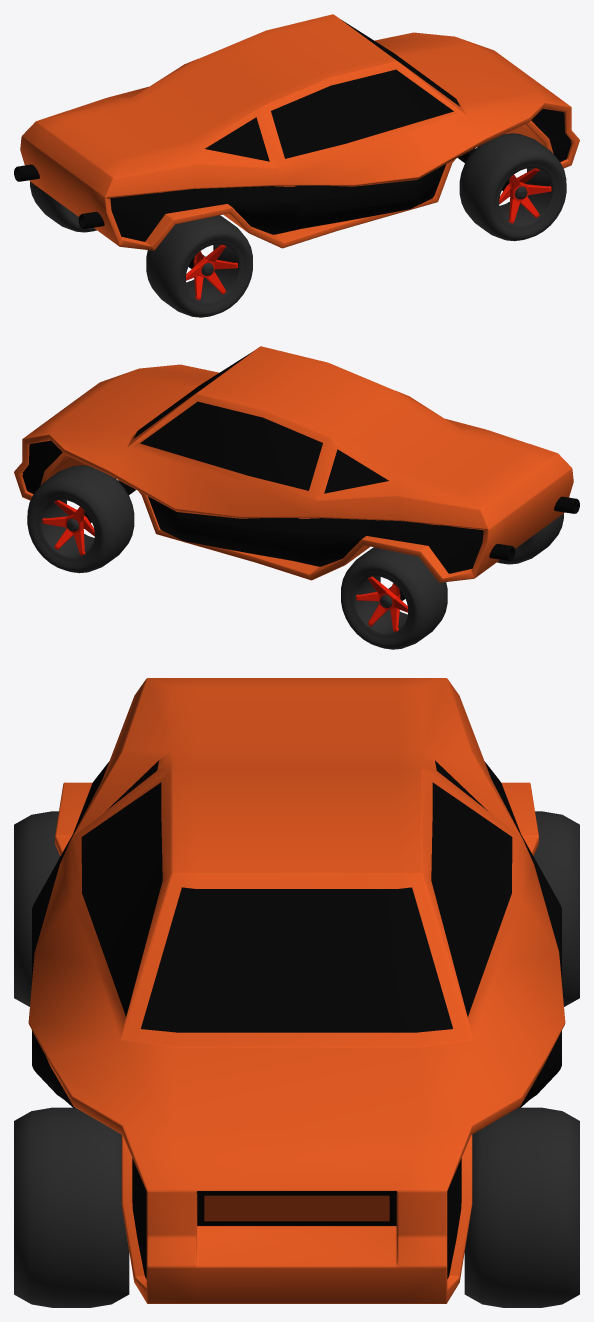
File: Car.fbx
The picture shows the model from 3 angles, top to bottom: view 1: azimuth 30°, elevation 25°; view 2: azimuth 150°, elevation 25°; view 3: azimuth 270°, elevation 25°; orthographic projection. The views are drawn at different scales.
Visible parts, largest first — view 1: car_body, FrontRightWheel, RearRightWheel, RearLeftWheel; view 2: car_body, FrontLeftWheel, RearLeftWheel, RearRightWheel; view 3: car_body, FrontLeftWheel, FrontRightWheel, RearRightWheel, RearLeftWheel.
Boxes of the visible parts, x1,y1,x2,y2 form: car_body: (14,14,579,268); FrontRightWheel: (459,133,566,241); RearRightWheel: (146,215,252,317); RearLeftWheel: (30,181,96,232); car_body: (14,346,579,600); FrontLeftWheel: (27,465,134,573); RearLeftWheel: (341,547,447,649); RearRightWheel: (497,513,563,564); car_body: (28,678,565,1303); FrontLeftWheel: (464,1107,579,1307); FrontRightWheel: (14,1107,129,1307); RearRightWheel: (14,811,60,1006); RearLeftWheel: (533,811,579,1006).
Bounding box in the file's own units: 4.4 × 1.5 × 2.26.
